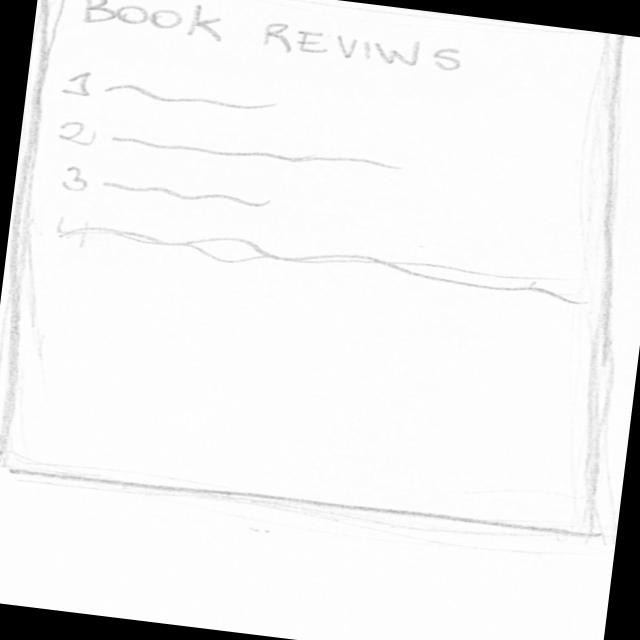container: (1, 1, 640, 546)
label: (70, 1, 479, 85)
text: (45, 209, 593, 312), (107, 123, 405, 184), (100, 74, 289, 125), (91, 173, 278, 213)
